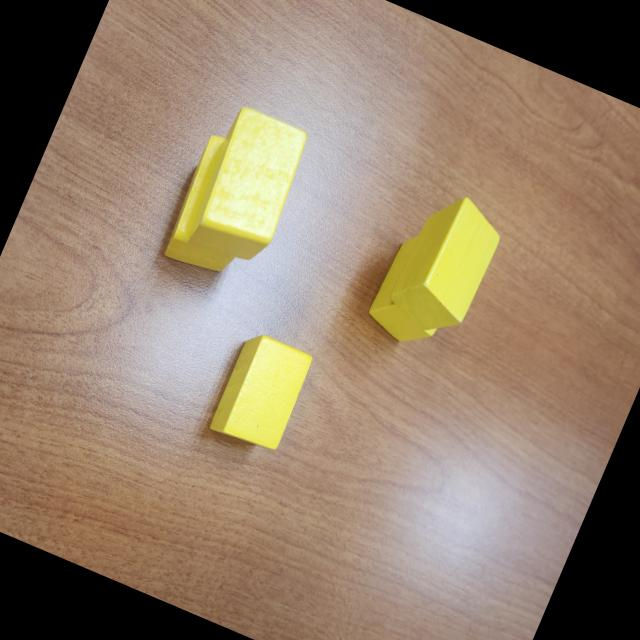yellow: (178, 101, 314, 273), (382, 184, 511, 344), (158, 132, 278, 284), (206, 328, 316, 456), (360, 228, 468, 354)
